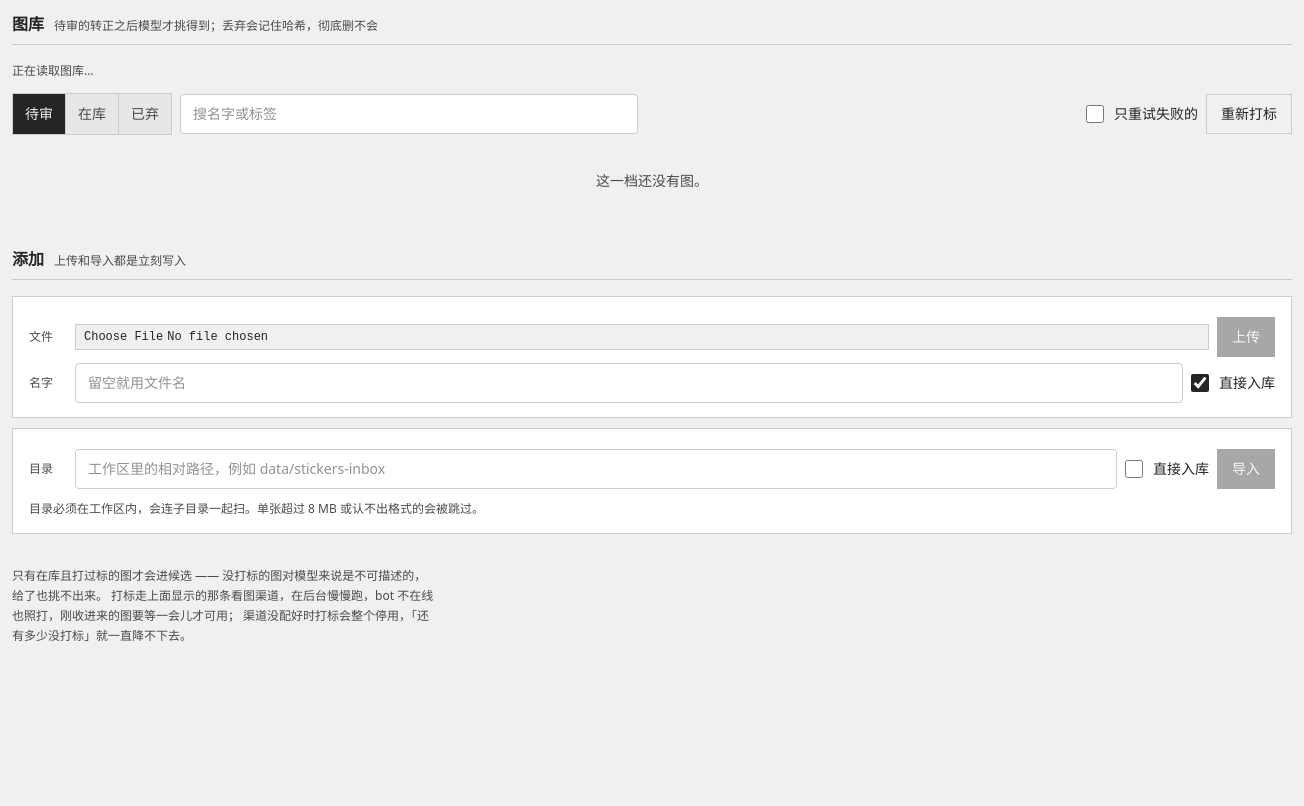
Scenario: 图库只认最后发出的那次读 › 切页签：慢回来的上一个页签不覆盖眼下这一页
The image size is (1304, 806).
Click the button "在库" at (92, 114), box top-left (65, 94), bottom-right (118, 134)
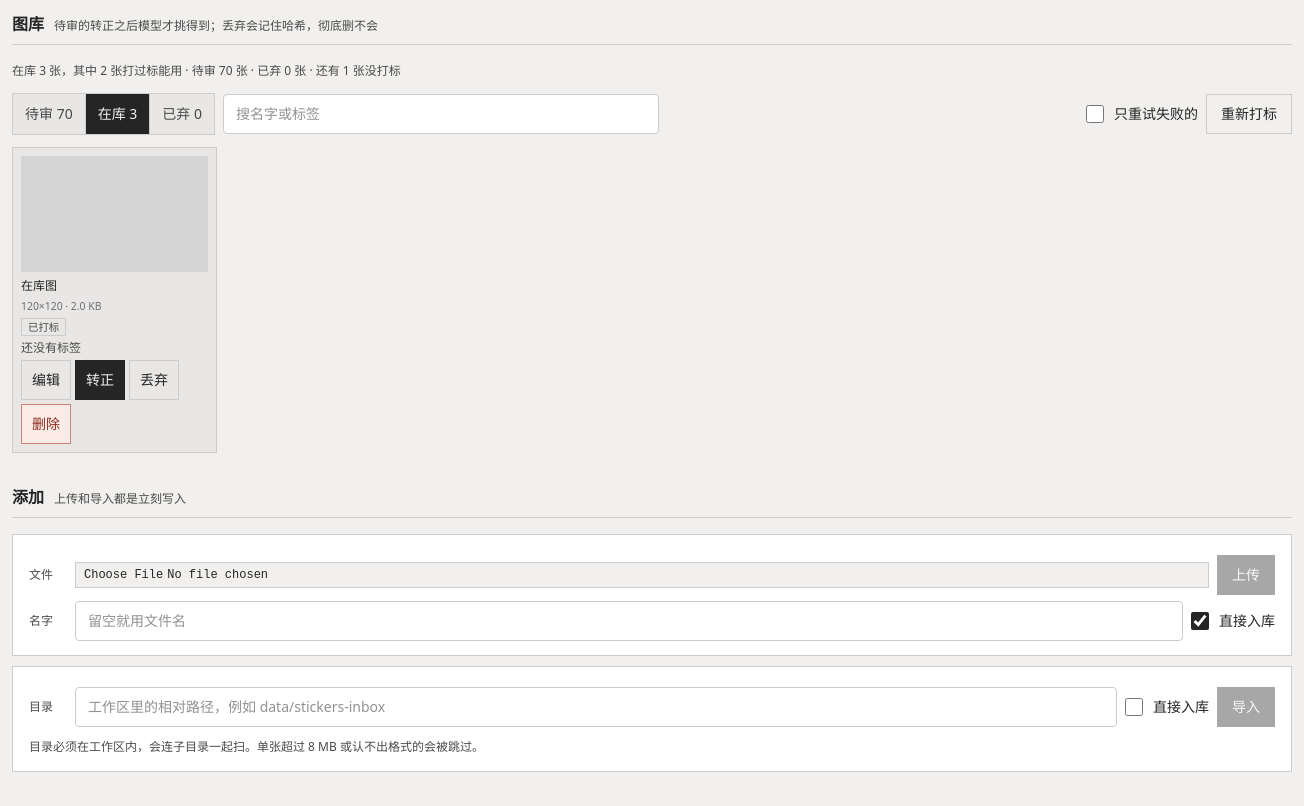
Now the text "在库图" is shown, box top-left (21, 277), bottom-right (57, 294)
Now the button "在库 3" is shown, box top-left (85, 94), bottom-right (149, 134)
